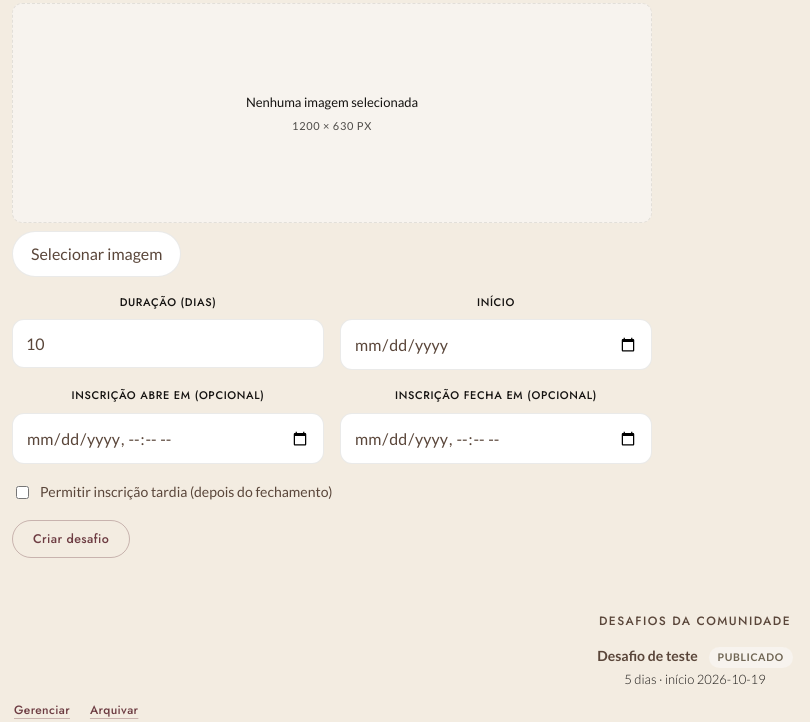
it: GardenChallengeManager — aba "Publicar incentivo" (Etapas O/P) › seletor de estilo e pré-visualização › mostra as seis opções de estilo, agrupadas sob o mesmo rótulo visível e acessível
(page scrolled)
Step 1. Click the button "Gerenciar" → coordinates (42, 710), box [12,698,72,721]
(page scrolled)
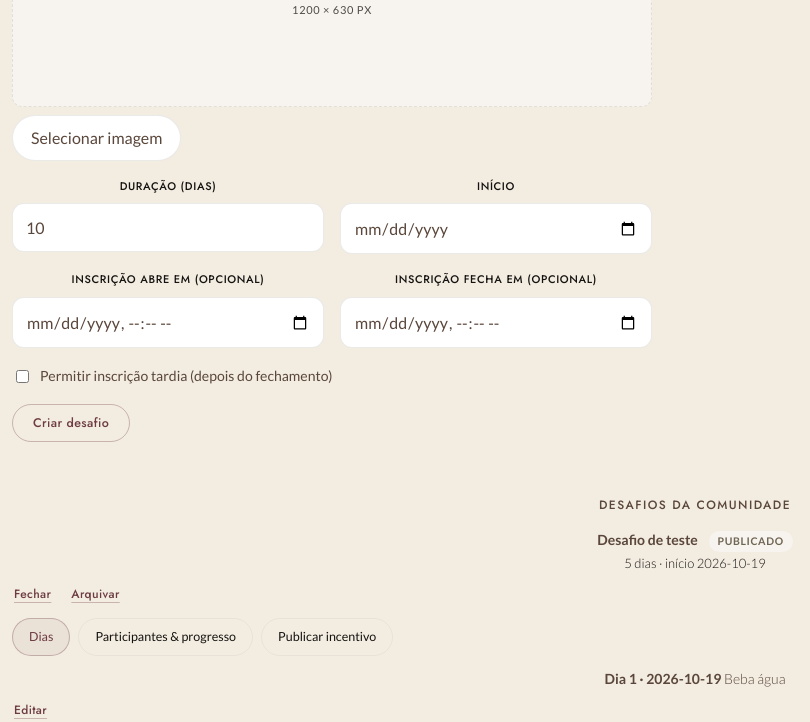
Step 2. Click the button "Publicar incentivo" → coordinates (327, 637), box [261,618,393,656]
(page scrolled)
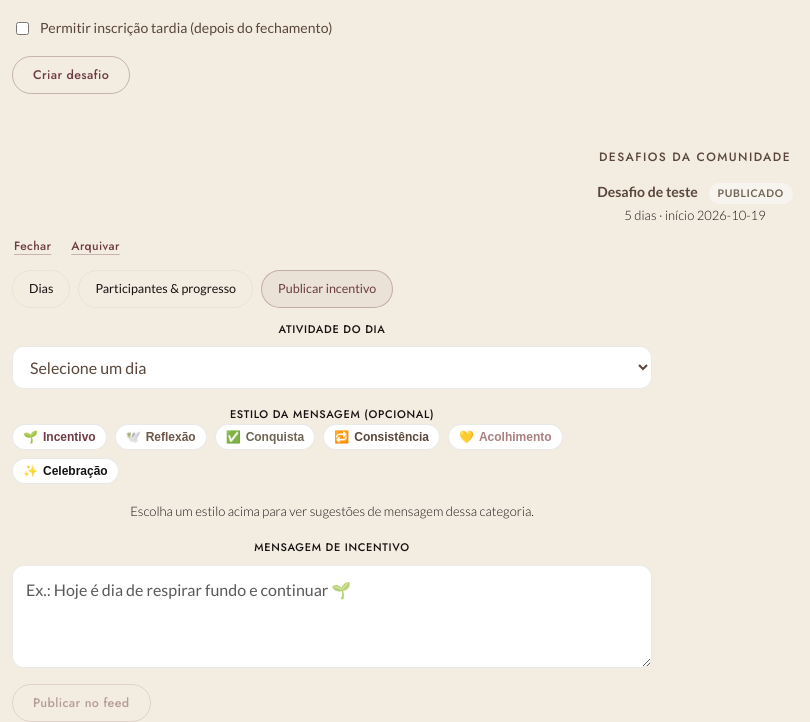
Result: the button "🌱 Incentivo" is shown at [12,424,107,450]
Result: the button "🕊️ Reflexão" is shown at [115,424,207,450]
Result: the button "✅ Conquista" is shown at [215,424,315,450]
